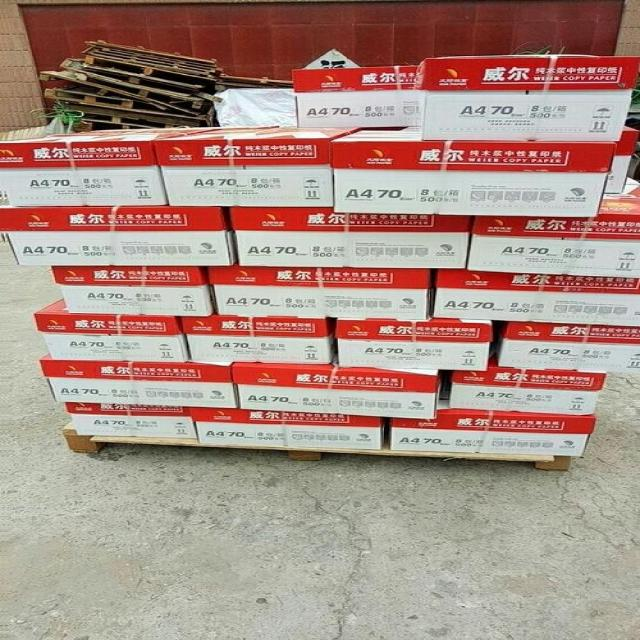box: (335, 130, 616, 218), (415, 54, 640, 141), (0, 127, 229, 208), (155, 126, 364, 207), (229, 206, 472, 269), (0, 205, 237, 266), (468, 197, 640, 277), (389, 393, 596, 456), (207, 264, 434, 320), (433, 268, 640, 328), (232, 362, 443, 420), (40, 354, 237, 409), (36, 299, 192, 363), (337, 316, 494, 372), (51, 265, 218, 316), (179, 311, 337, 364), (292, 65, 421, 128), (193, 409, 385, 450), (492, 321, 640, 374), (451, 365, 608, 414), (67, 402, 195, 438), (605, 125, 640, 193)
